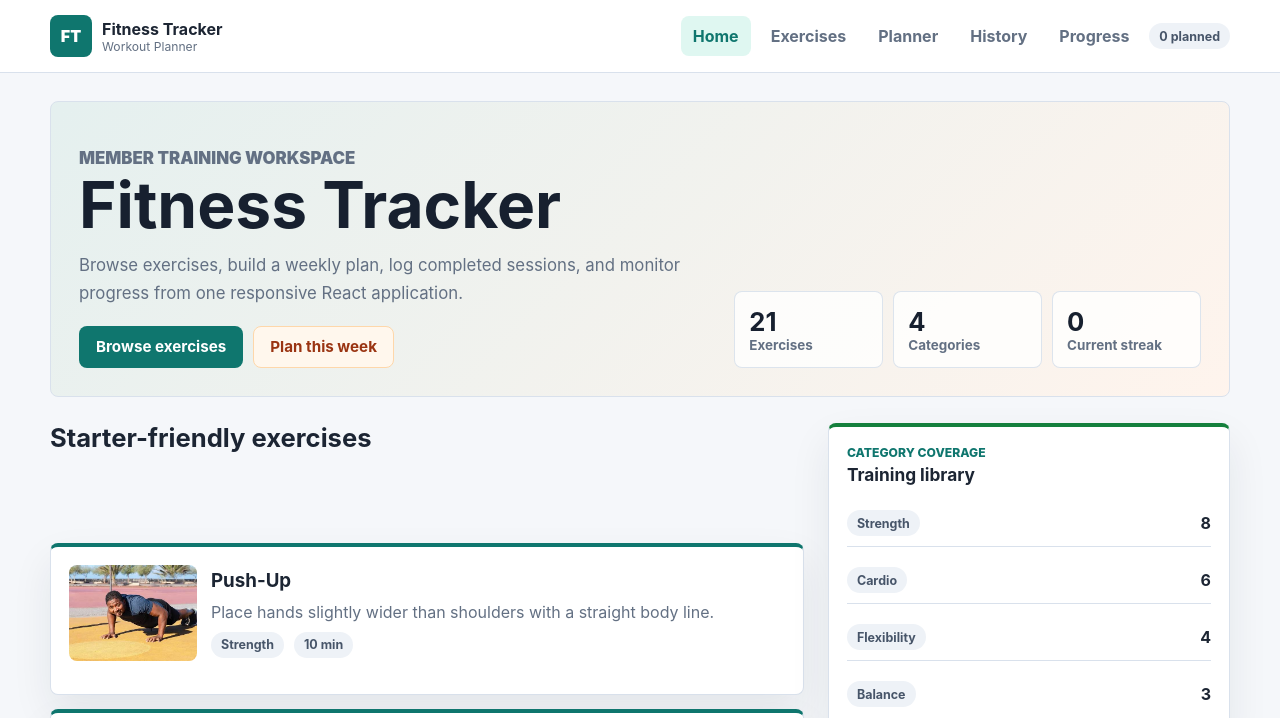
Test: routing, progress, and media › renders the home route and navigates with CTA buttons
Expected: the heading "Fitness Tracker" is shown, [79,166,561,242]
Click the button "Browse exercises".
click(161, 347)  # box [79,326,243,368]
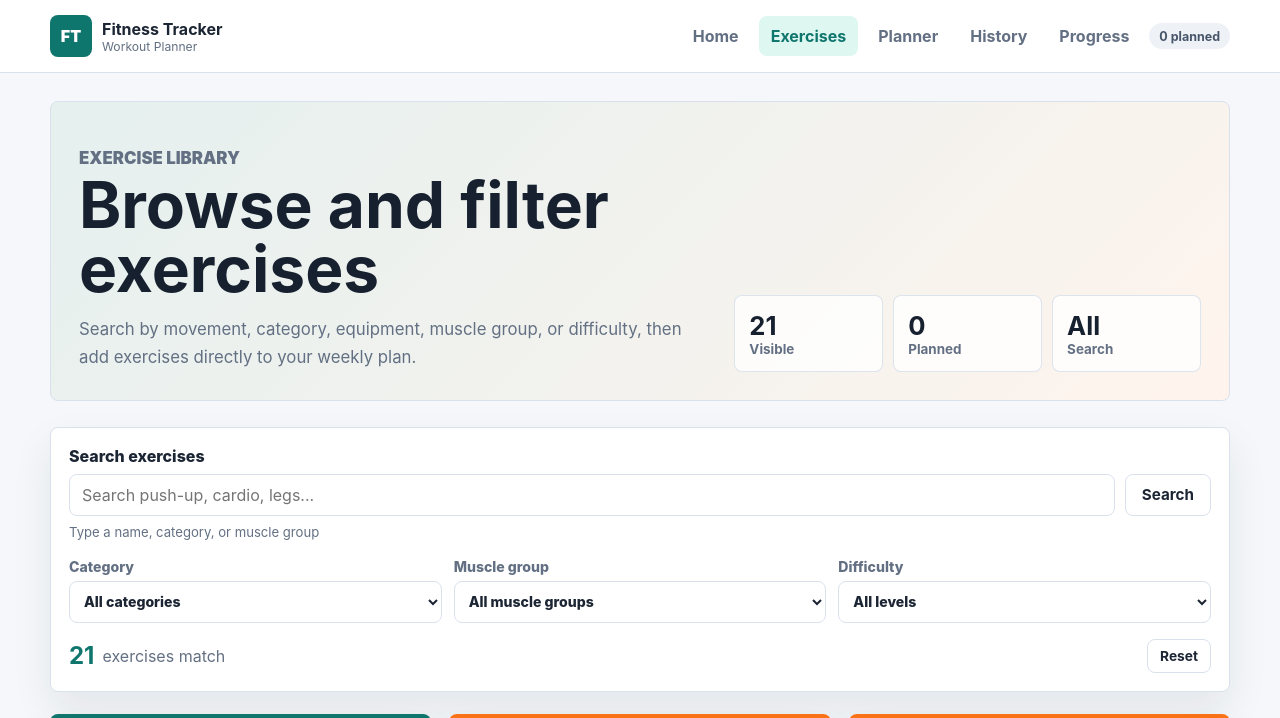
Expected: the heading "Browse and filter exercises" is shown, [79,166,609,306]
